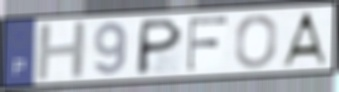9: (92, 20, 129, 78)
A: (278, 10, 328, 68)
F: (185, 15, 230, 73)
H: (35, 19, 89, 84)
O: (233, 14, 279, 70)
P: (133, 16, 185, 77)
